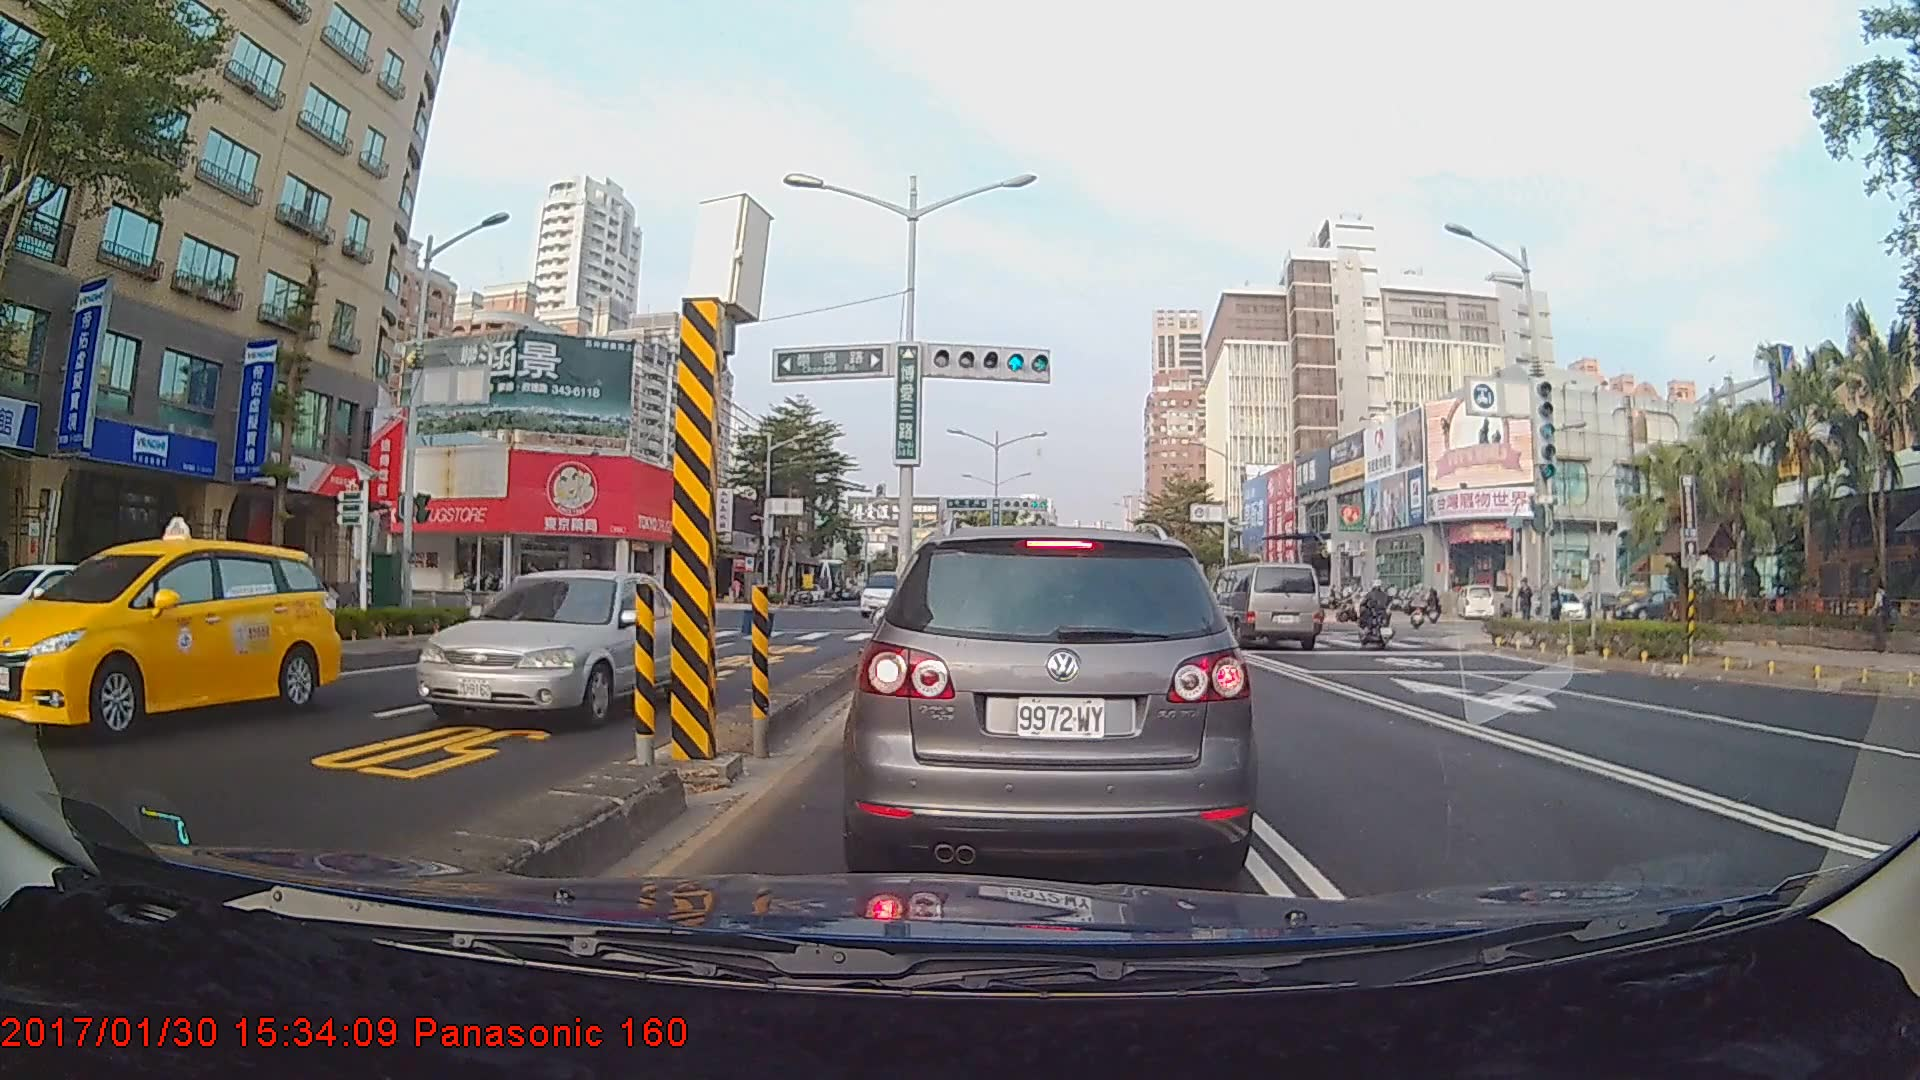pedestrian: (1866, 580, 1894, 655)
rider: (1360, 578, 1401, 656), (1402, 582, 1428, 635)
vehicle: (852, 517, 1252, 882), (0, 538, 342, 739), (412, 567, 697, 731), (1201, 560, 1323, 653), (858, 571, 917, 617)
